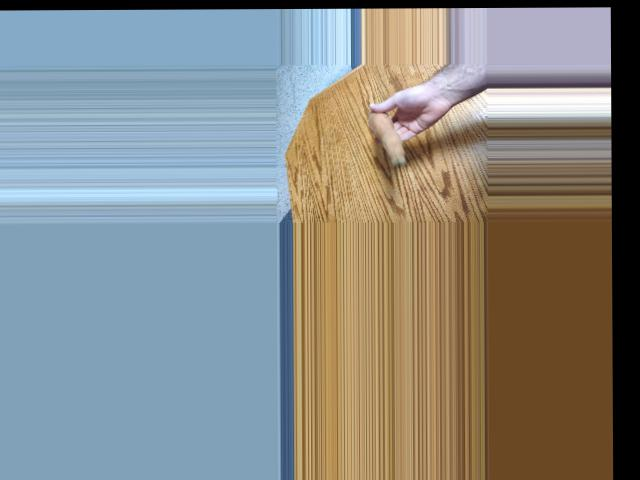sweet_potato: (368, 105, 408, 165)
